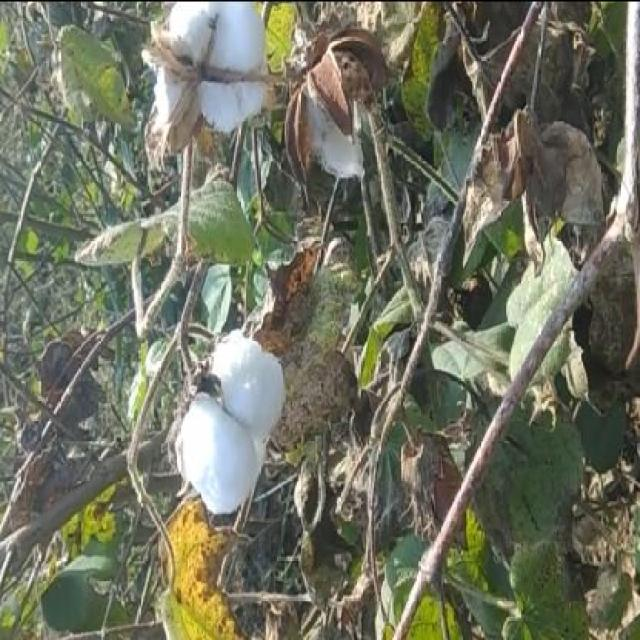cotton_ready: (128, 0, 282, 152), (163, 334, 294, 506)
